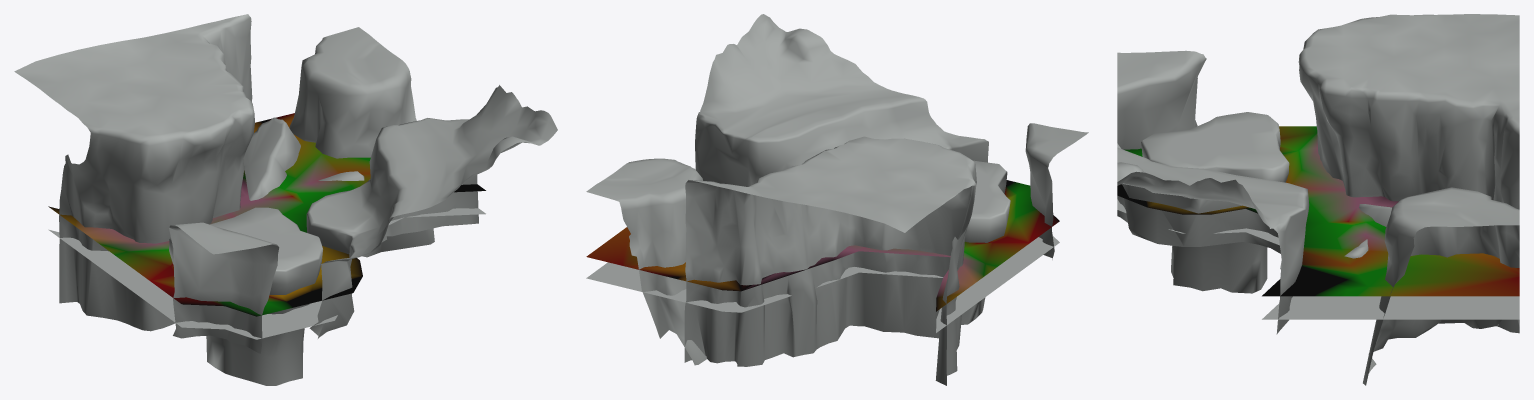
3 renders of one model, left to right at view 1: azimuth 30°, elevation 25°; view 2: azimuth 150°, elevation 25°; view 3: azimuth 270°, elevation 25°, orthographic. The views are drawn at different scales.
Visible parts, largest first — view 1: G:\FFXIV-MapTools\exports\w1f4\bg\ffxiv\wil_w1\fld\w1f4\bgpl (×20); view 2: G:\FFXIV-MapTools\exports\w1f4\bg\ffxiv\wil_w1\fld\w1f4\bgpl (×19); view 3: G:\FFXIV-MapTools\exports\w1f4\bg\ffxiv\wil_w1\fld\w1f4\bgpl (×19).
Boxes of the visible parts, x1,y1,x2,y2 form: G:\FFXIV-MapTools\exports\w1f4\bg\ffxiv\wil_w1\fld\w1f4\bgpl (×20): (14, 14, 557, 385); G:\FFXIV-MapTools\exports\w1f4\bg\ffxiv\wil_w1\fld\w1f4\bgpl (×19): (586, 14, 1088, 385); G:\FFXIV-MapTools\exports\w1f4\bg\ffxiv\wil_w1\fld\w1f4\bgpl (×19): (1117, 14, 1519, 385).
Bounding box in the file's own units: 128 × 79.18 × 128.
